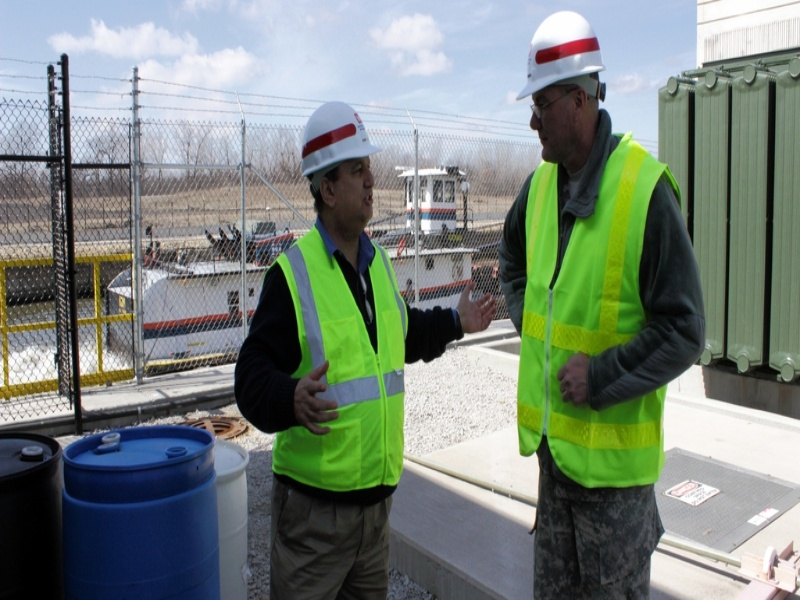Baret: (518, 11, 604, 107), (299, 101, 382, 177)
